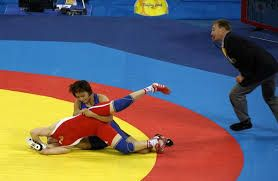fall: (21, 75, 171, 158)
